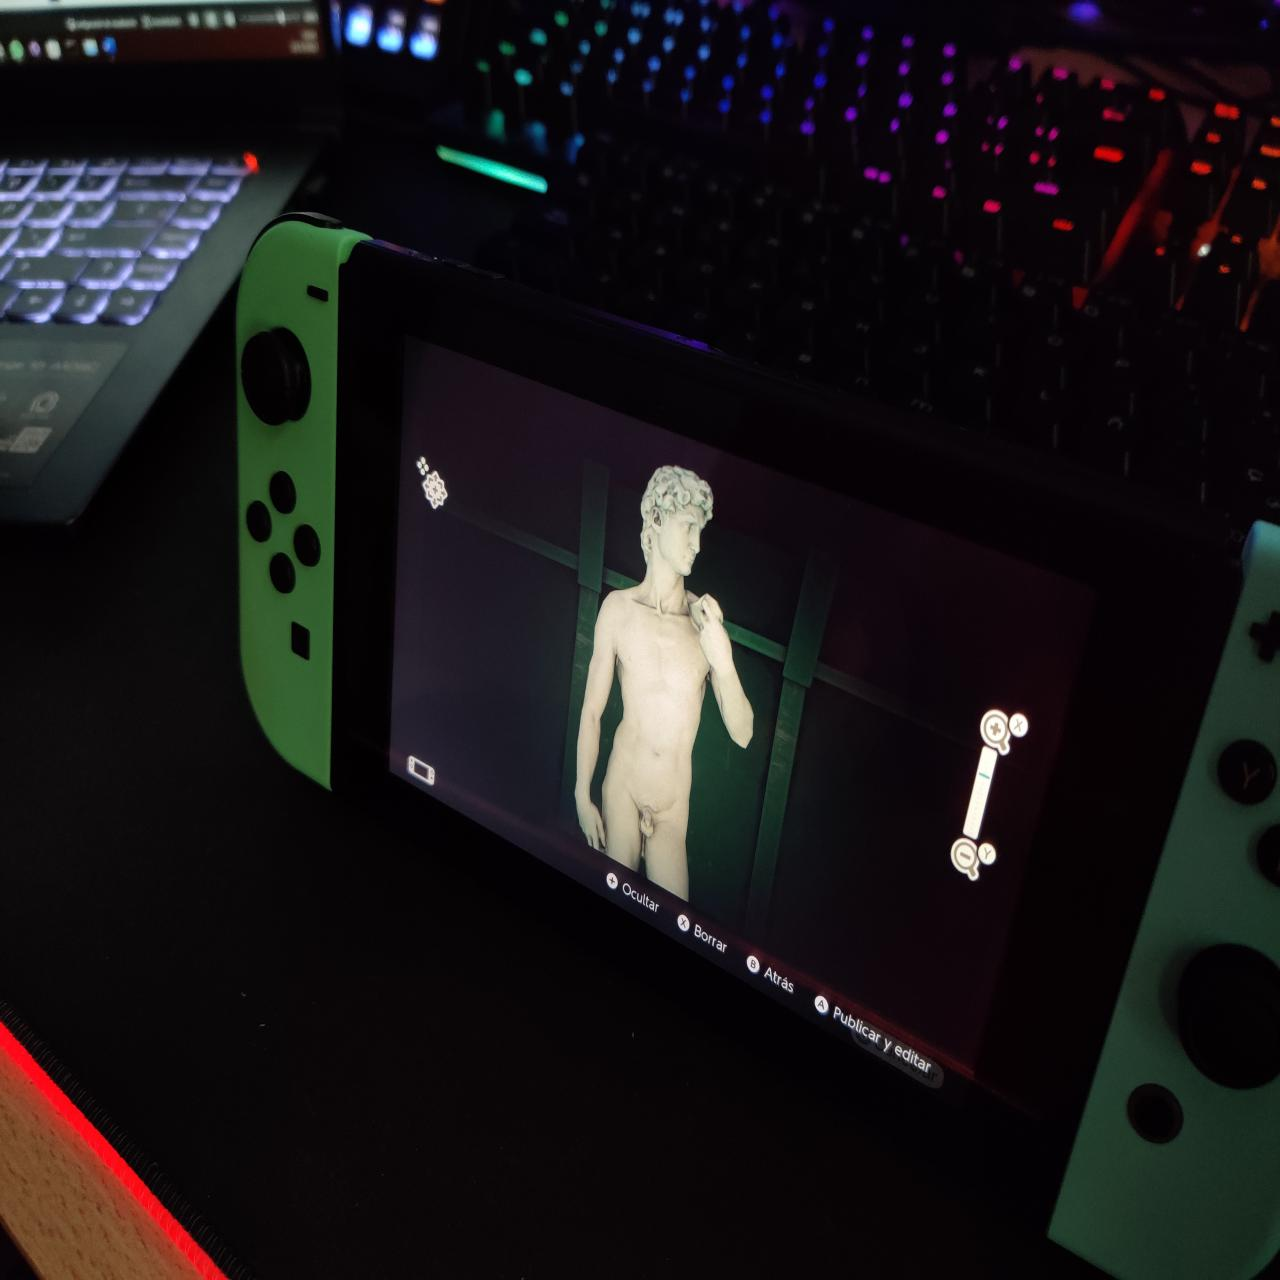David: (571, 457, 760, 907)
